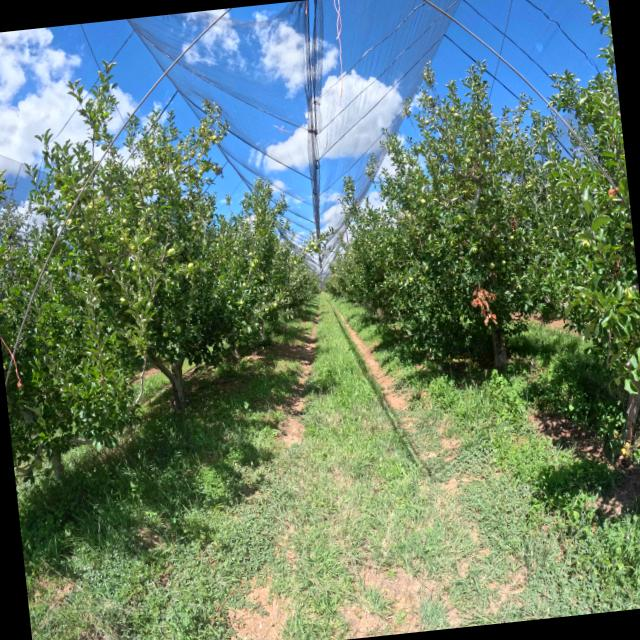-FireBlight-: (470, 286, 499, 327), (600, 257, 624, 282), (508, 211, 519, 231)
